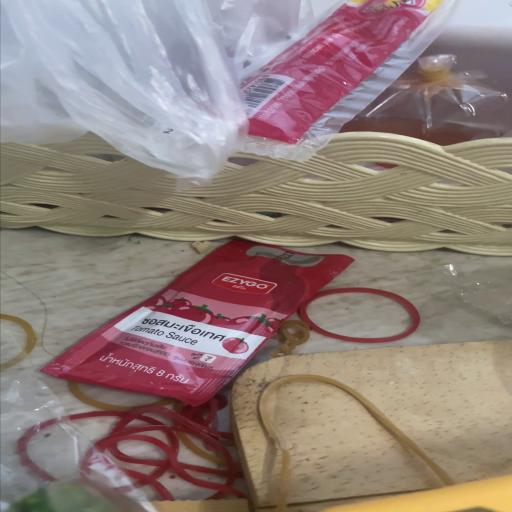brand_golden_good: (229, 340, 512, 511)
